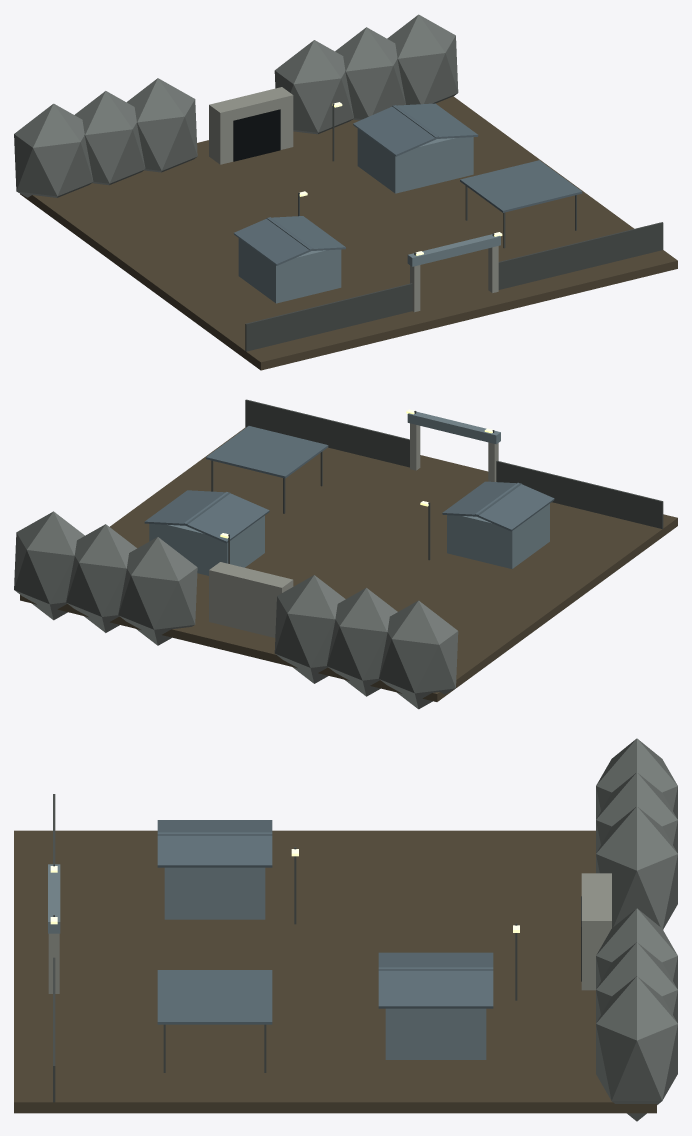
The model's file is mine_vista.glb.
3 renders of one model, top to bottom at view 1: azimuth 30°, elevation 25°; view 2: azimuth 150°, elevation 25°; view 3: azimuth 270°, elevation 25°, orthographic. The views are drawn at different scales.
Visible parts, largest first — view 1: MN_Vista_Ground, MN_Vista_Rock_0, MN_Vista_Rock_3, MN_Vista_Fence, MN_Vista_Fence.001, MN_Vista_Rock_2, MN_Vista_Winch, MN_Vista_Rock_5, MN_Vista_Rock_1, MN_Vista_Rock_4, MN_Vista_Dispatch, MN_Vista_Shelter (+7 smaller); view 2: MN_Vista_Ground, MN_Vista_Rock_0, MN_Vista_Rock_3, MN_Vista_Rock_2, MN_Vista_Rock_5, MN_Vista_Rock_4, MN_Vista_Rock_1, MN_Vista_Fence.001, MN_Vista_Adit, MN_Vista_Fence, MN_Vista_Dispatch, MN_Vista_Shelter (+7 smaller); view 3: MN_Vista_Ground, MN_Vista_Rock_5, MN_Vista_Rock_2, MN_Vista_Shelter, MN_Vista_Dispatch, MN_Vista_Winch, MN_Vista_Winch_Roof.001, MN_Vista_Dispatch_Roof.001, MN_Vista_Adit, MN_Vista_Rock_0, MN_Vista_Rock_1, MN_Vista_Rock_4 (+5 smaller).
Part boxes in pixels (x1=…): MN_Vista_Ground: x1=20, y1=96, x2=677, y2=370; MN_Vista_Rock_0: x1=14, y1=103, x2=93, y2=197; MN_Vista_Rock_3: x1=274, y1=40, x2=353, y2=134; MN_Vista_Fence: x1=245, y1=283, x2=412, y2=351; MN_Vista_Fence.001: x1=498, y1=222, x2=663, y2=289; MN_Vista_Rock_2: x1=126, y1=78, x2=197, y2=172; MN_Vista_Winch: x1=357, y1=129, x2=473, y2=193; MN_Vista_Rock_5: x1=387, y1=14, x2=458, y2=104; MN_Vista_Rock_1: x1=74, y1=91, x2=145, y2=185; MN_Vista_Rock_4: x1=335, y1=27, x2=405, y2=120; MN_Vista_Dispatch: x1=238, y1=238, x2=341, y2=303; MN_Vista_Shelter: x1=460, y1=160, x2=582, y2=212; MN_Vista_Ground: x1=20, y1=427, x2=677, y2=701; MN_Vista_Rock_0: x1=379, y1=600, x2=458, y2=709; MN_Vista_Rock_3: x1=118, y1=537, x2=197, y2=645; MN_Vista_Rock_2: x1=274, y1=575, x2=345, y2=683; MN_Vista_Rock_5: x1=14, y1=511, x2=84, y2=620; MN_Vista_Rock_4: x1=66, y1=524, x2=136, y2=632; MN_Vista_Rock_1: x1=327, y1=588, x2=397, y2=696; MN_Vista_Fence.001: x1=245, y1=399, x2=409, y2=467; MN_Vista_Adit: x1=209, y1=562, x2=293, y2=637; MN_Vista_Fence: x1=496, y1=460, x2=663, y2=528; MN_Vista_Dispatch: x1=447, y1=503, x2=549, y2=568; MN_Vista_Shelter: x1=206, y1=426, x2=328, y2=478; MN_Vista_Ground: x1=14, y1=830, x2=656, y2=1113; MN_Vista_Rock_5: x1=596, y1=976, x2=677, y2=1121; MN_Vista_Rock_2: x1=596, y1=806, x2=677, y2=929; MN_Vista_Shelter: x1=157, y1=970, x2=272, y2=1024; MN_Vista_Dispatch: x1=164, y1=867, x2=265, y2=919; MN_Vista_Winch: x1=385, y1=1008, x2=486, y2=1059; MN_Vista_Winch_Roof.001: x1=378, y1=967, x2=493, y2=1008; MN_Vista_Dispatch_Roof.001: x1=157, y1=832, x2=272, y2=867; MN_Vista_Adit: x1=581, y1=873, x2=611, y2=990; MN_Vista_Rock_0: x1=596, y1=738, x2=677, y2=819; MN_Vista_Rock_1: x1=596, y1=772, x2=677, y2=853; MN_Vista_Rock_4: x1=596, y1=942, x2=677, y2=1023.
Bounding box in the file's own units: 33.72 × 8 × 33.04.
